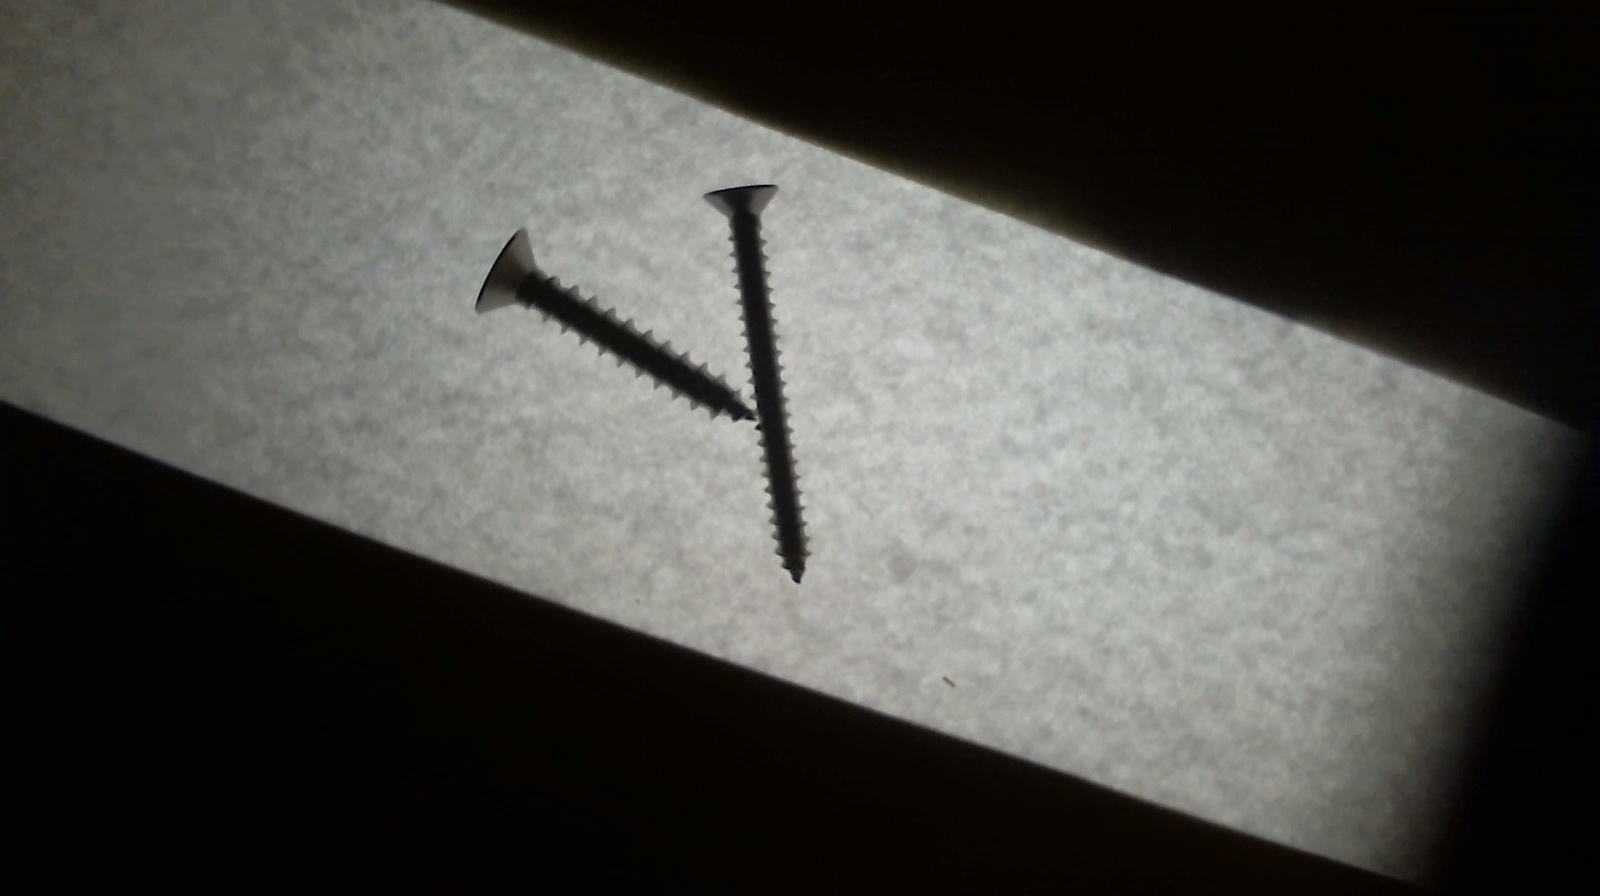S001: (456, 228, 769, 434)
S002: (698, 167, 809, 590)
